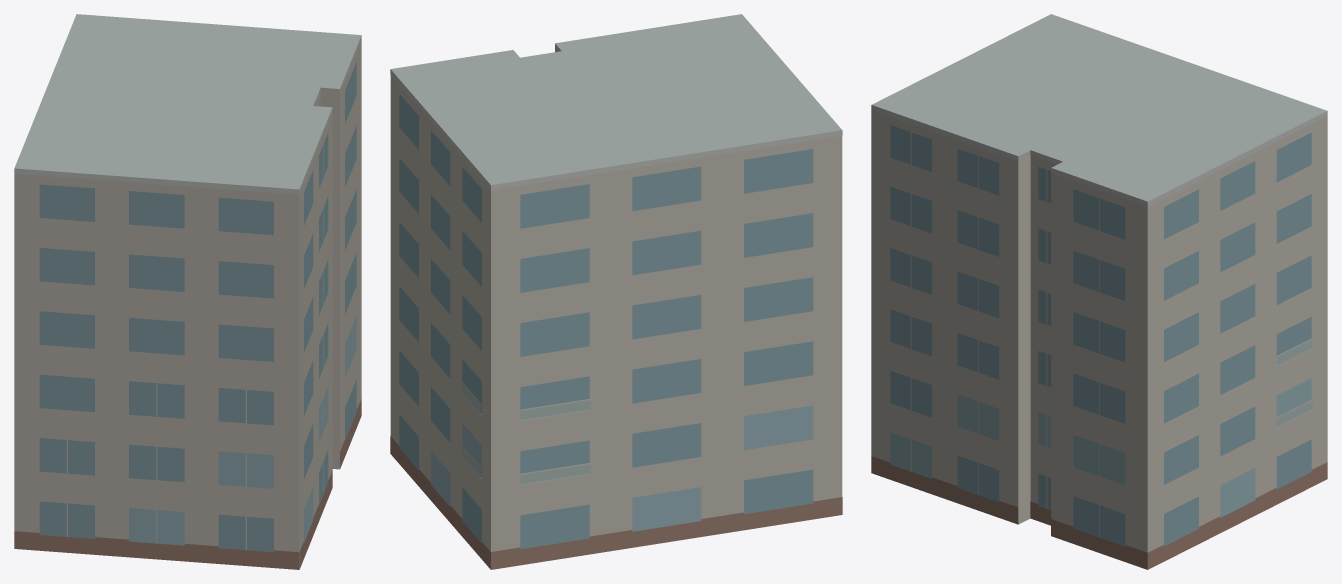
File: survey-upis-32711752.glb
3 renders of one model, left to right at view 1: azimuth 30°, elevation 25°; view 2: azimuth 150°, elevation 25°; view 3: azimuth 270°, elevation 25°, orthographic. The views are drawn at different scales.
Visible parts, largest first — view 1: survey-upis-32711752.tmp; view 2: survey-upis-32711752.tmp; view 3: survey-upis-32711752.tmp.
Boxes of the visible parts, box(x1,y1,x2,y2) form: survey-upis-32711752.tmp: box(14, 14, 361, 569); survey-upis-32711752.tmp: box(390, 14, 842, 569); survey-upis-32711752.tmp: box(871, 14, 1327, 569).
Size of the model in its own units: 18.8 by 17.2 by 19.31.
